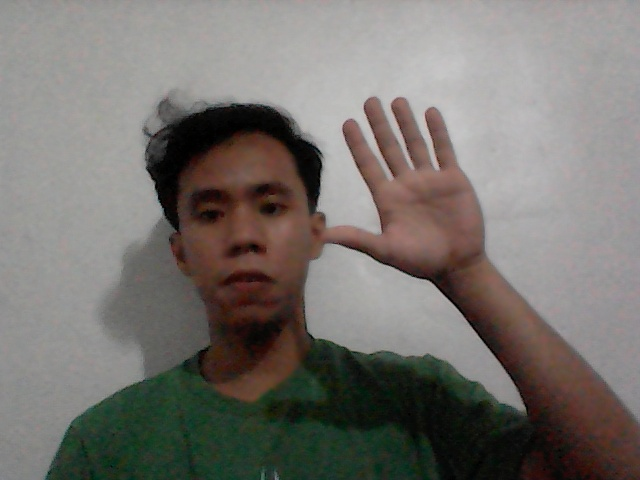Hello: (298, 82, 522, 307)
